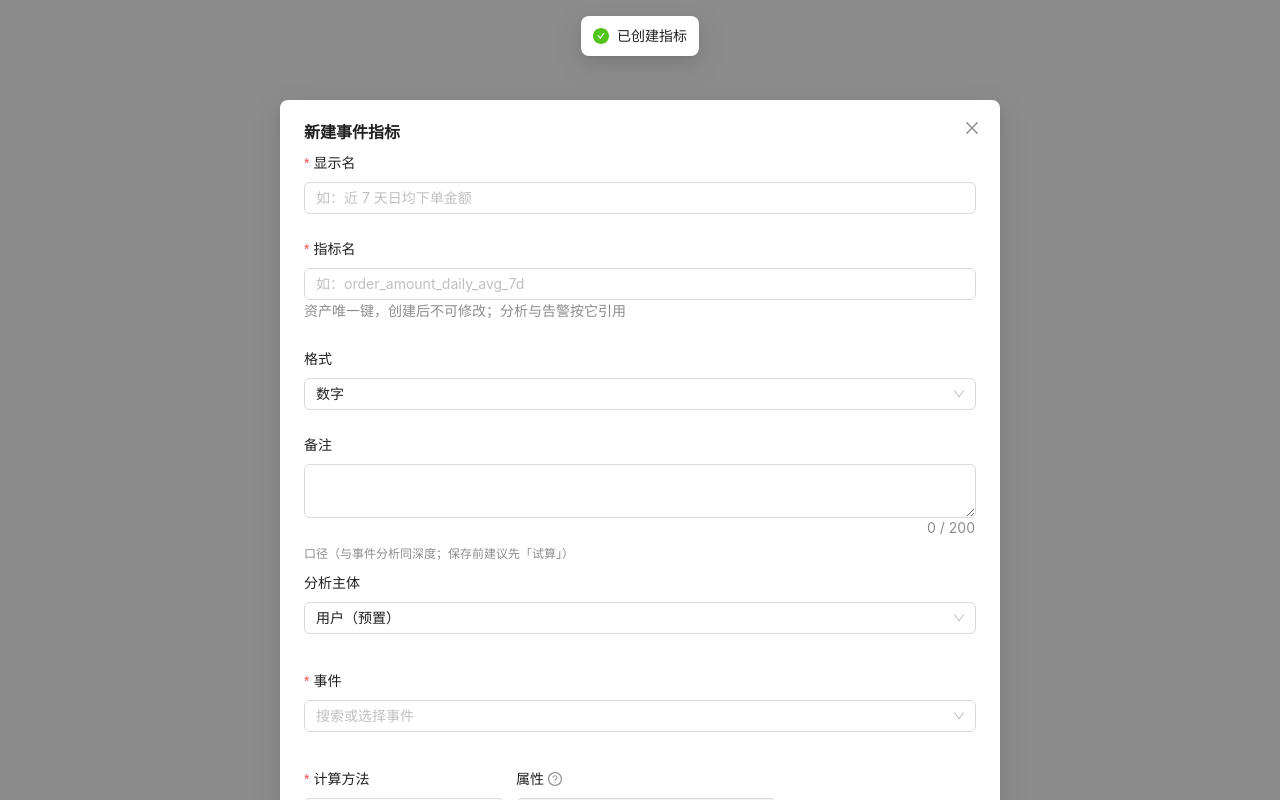
it: 新建事件指标 › 指标名格式不符时不提交（资产唯一键约束）
The image size is (1280, 800).
Type "订单量" into the field labelled "显示名".
click(640, 198); type("订单量")  # box [304, 182, 976, 214]
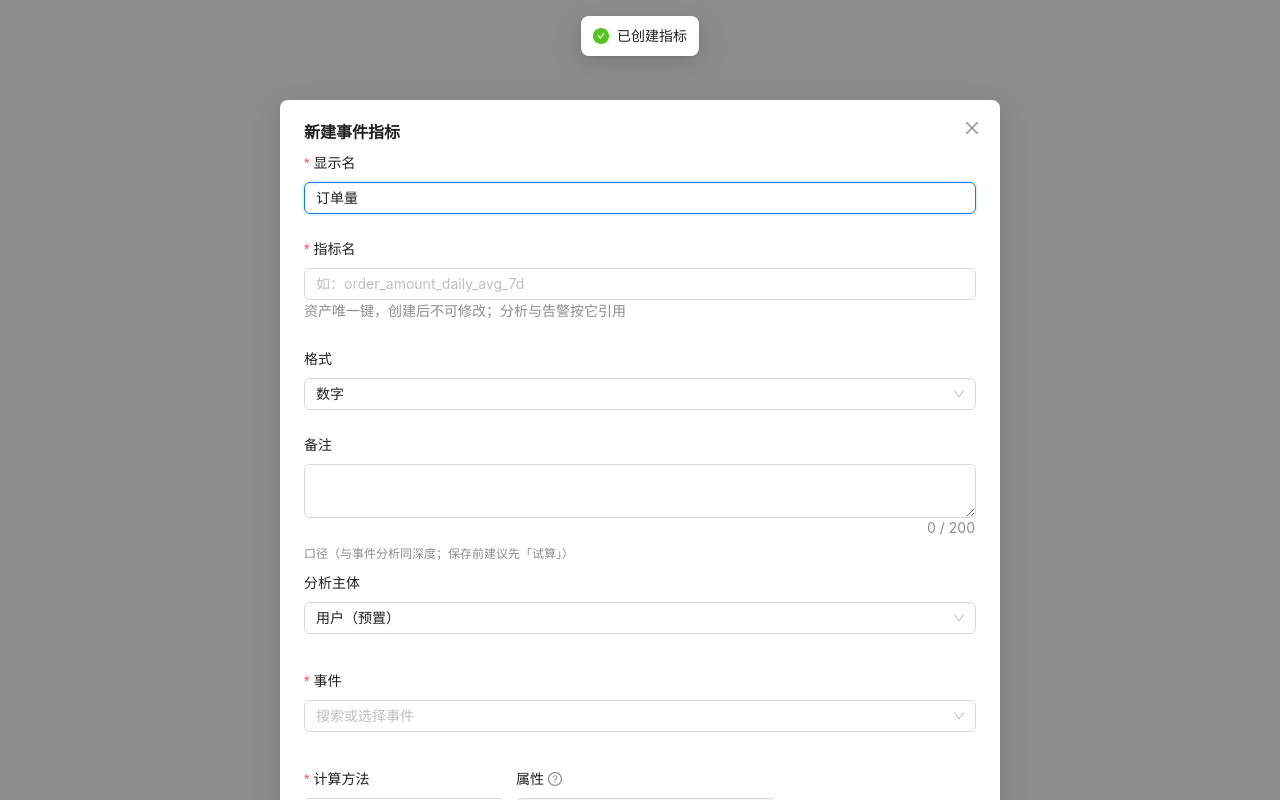
Type "Order-Count" into the field labelled "指标名".
click(640, 284); type("Order-Count")  # box [304, 268, 976, 300]
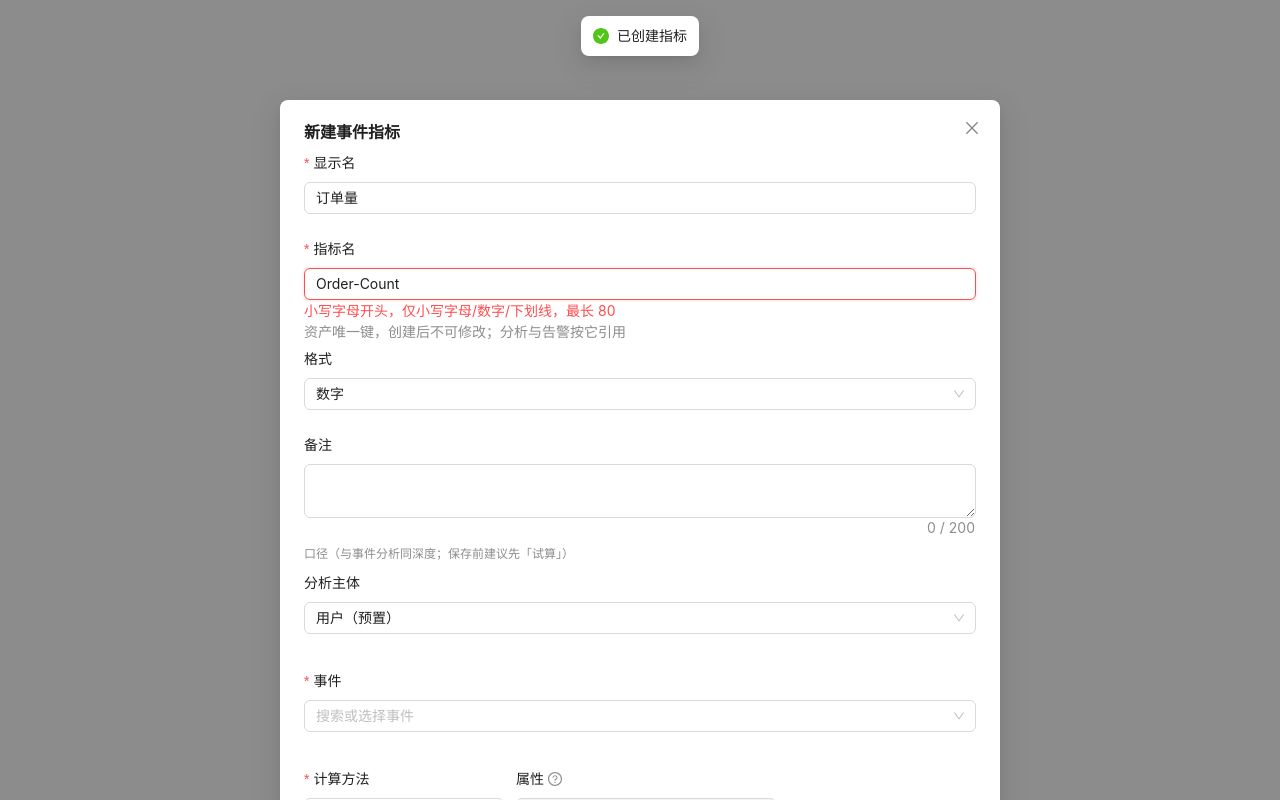
Click the dropdown labelled "事件".
click(631, 716)  # box [316, 701, 946, 731]
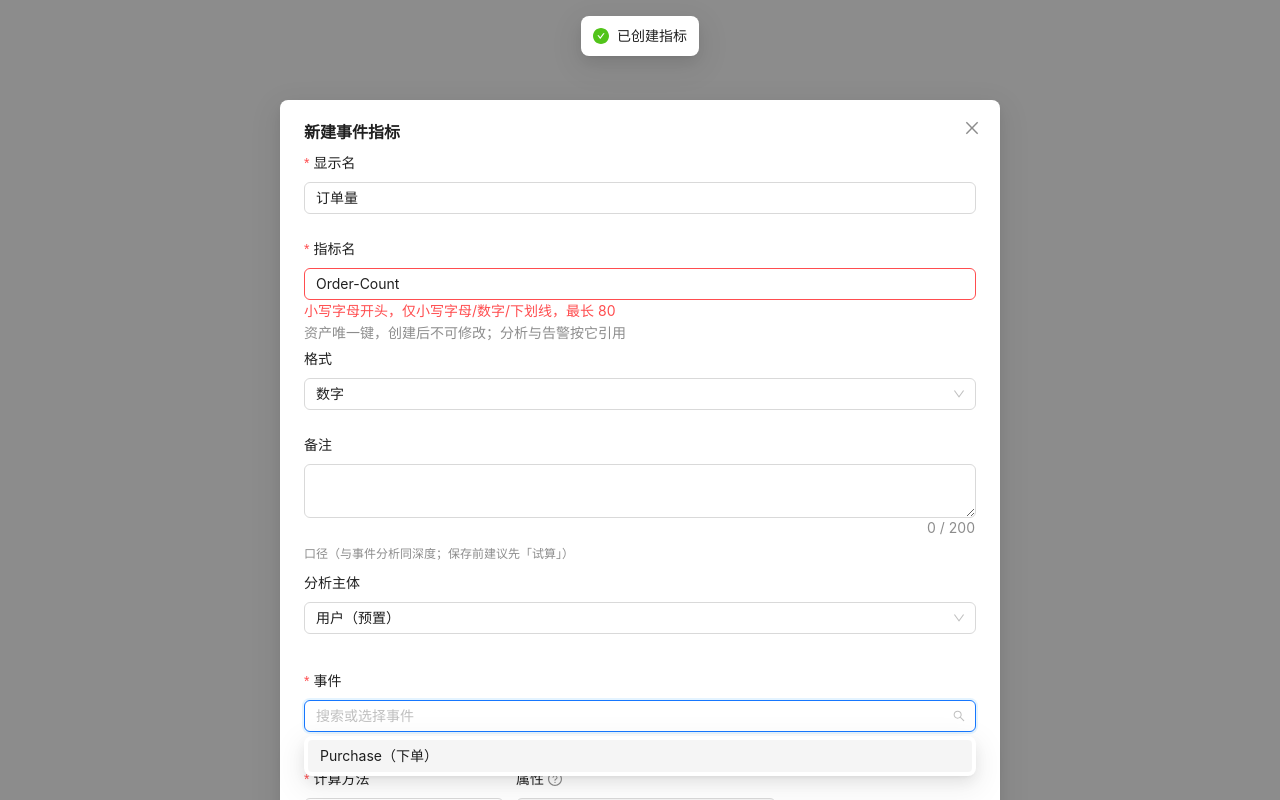
Click the text "Purchase（下单）".
click(379, 756)  # box [320, 747, 438, 764]
(page scrolled)
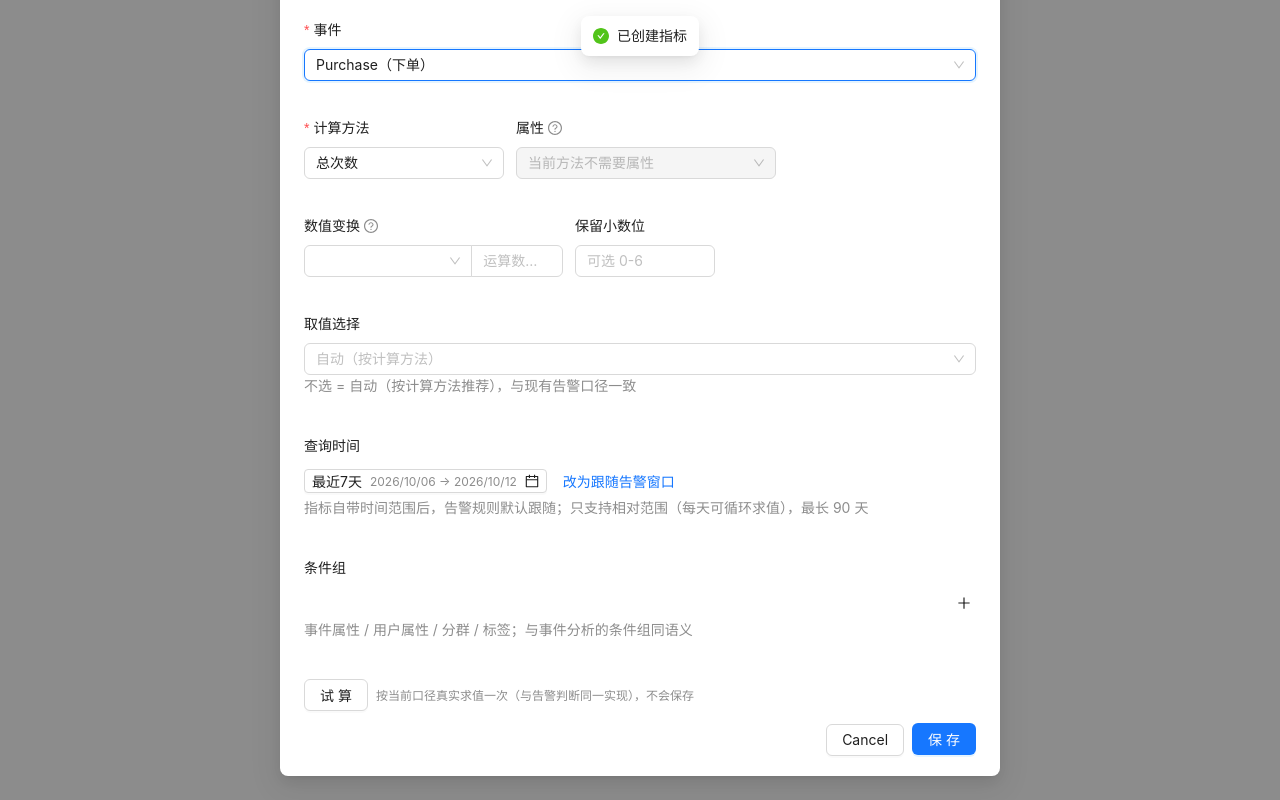
Click the button "保 存".
click(944, 739)  # box [912, 723, 976, 755]
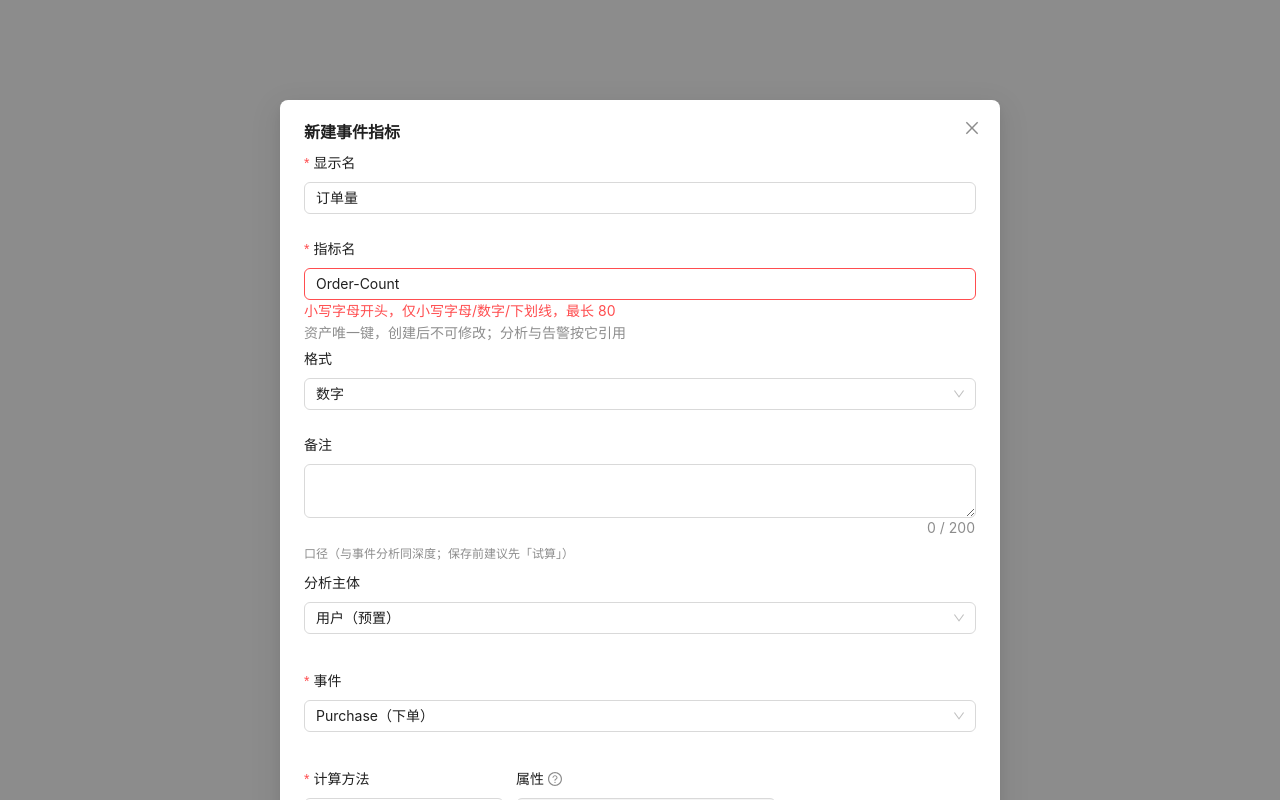
Expected: the text "小写字母开头，仅小写字母/数字/下划线，最长 80" is shown, [304, 302, 616, 319]
